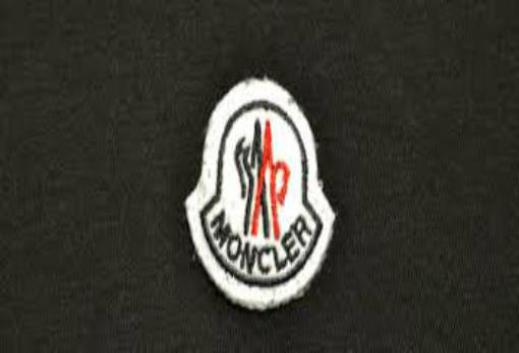MONCLER: (232, 116, 290, 242)
